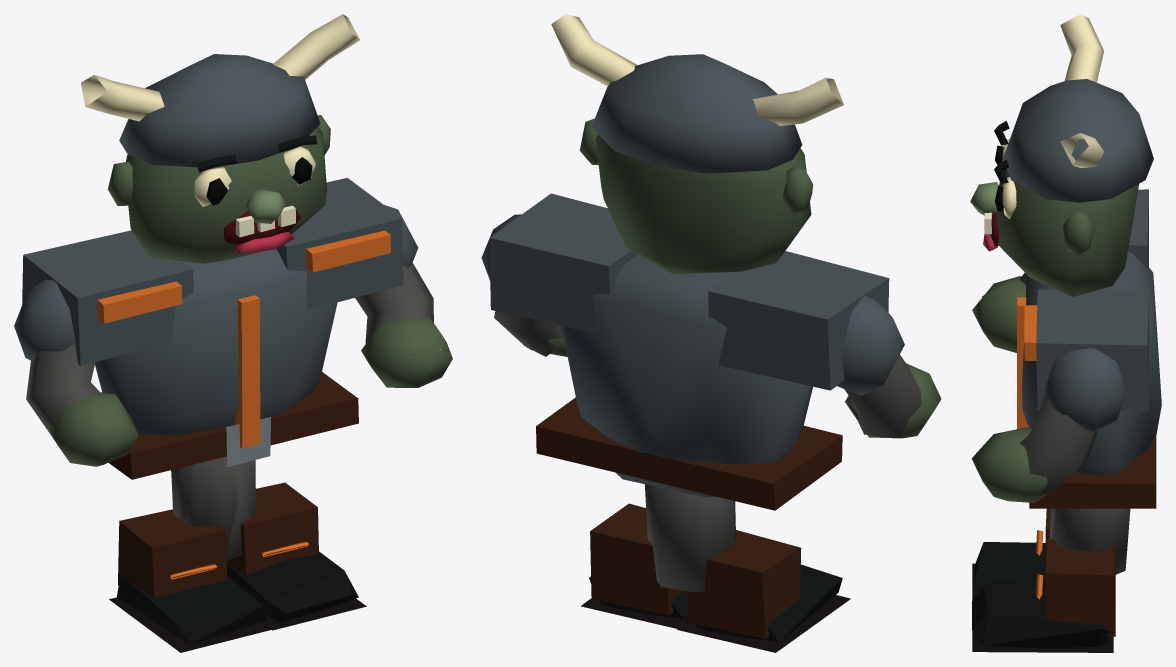
The model's file is titan-lod.glb.
The picture shows the model from 3 angles, left to right: view 1: azimuth 30°, elevation 25°; view 2: azimuth 150°, elevation 25°; view 3: azimuth 270°, elevation 25°; orthographic projection. The views are drawn at different scales.
Visible parts, largest first — view 1: Arms, Head, Body, LegL, LegR; view 2: Body, Head, Arms, LegL, LegR; view 3: Head, Arms, LegR, Body, LegL.
Boxes of the visible parts, x1=… form: Arms: x1=14, y1=177, x2=452, y2=466; Head: x1=81, y1=14, x2=359, y2=263; Body: x1=95, y1=249, x2=358, y2=479; LegL: x1=109, y1=460, x2=274, y2=652; LegR: x1=171, y1=456, x2=366, y2=630; Body: x1=536, y1=254, x2=842, y2=510; Head: x1=551, y1=14, x2=843, y2=274; Arms: x1=481, y1=193, x2=941, y2=438; LegL: x1=644, y1=484, x2=850, y2=652; LegR: x1=581, y1=484, x2=734, y2=629; Head: x1=970, y1=14, x2=1153, y2=296; Arms: x1=971, y1=189, x2=1148, y2=502; LegR: x1=972, y1=508, x2=1126, y2=652; Body: x1=1017, y1=252, x2=1161, y2=508; LegL: x1=972, y1=508, x2=1130, y2=600.
Bounding box in the file's own units: 0.956 × 1.26 × 0.4055.
1 material, 1 textured.
